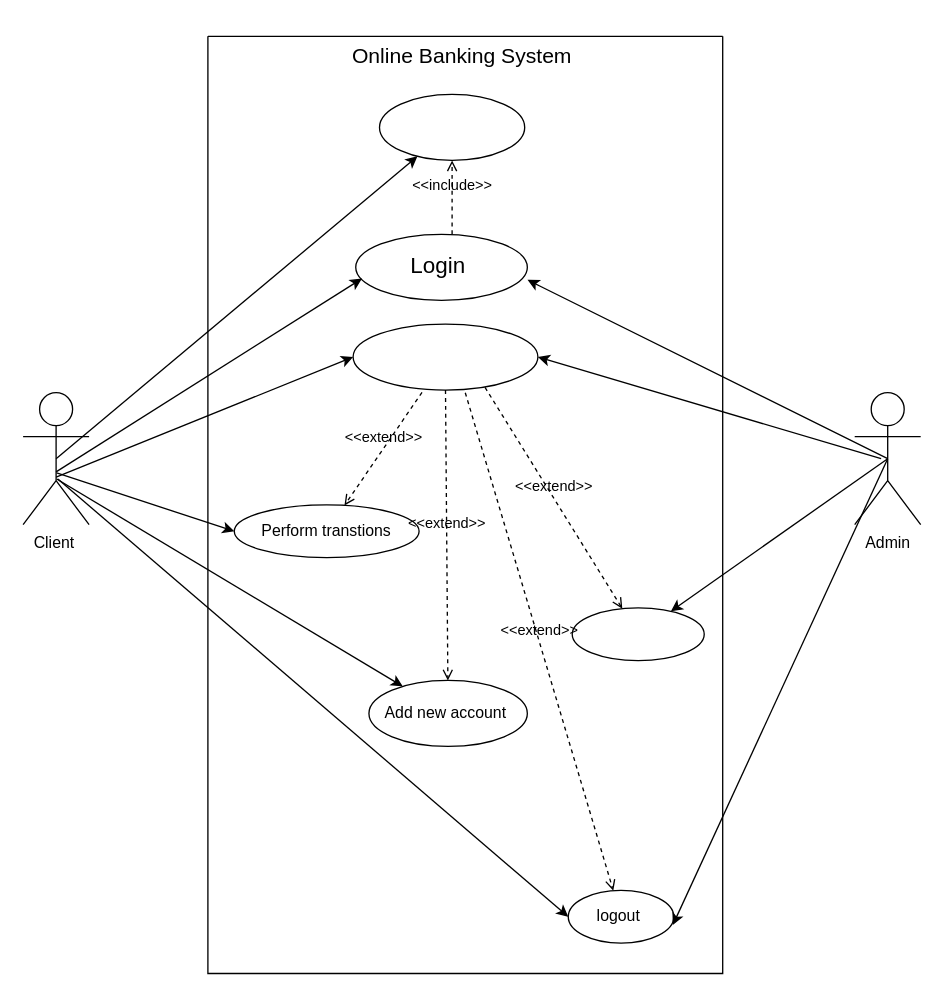
The diagram is 944 pixels wide and 997 high, and some of its shapes have lost their labels. Each missing label, with the centre of its shape:
closeAccount: the point at 637,634
Register: the point at 451,126
View Account: the point at 445,356
